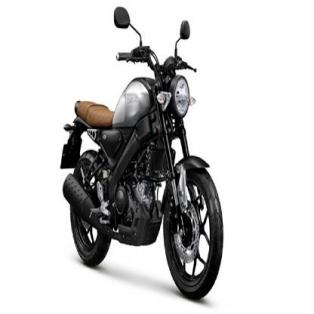Motocicleta: (60, 2, 230, 301)
